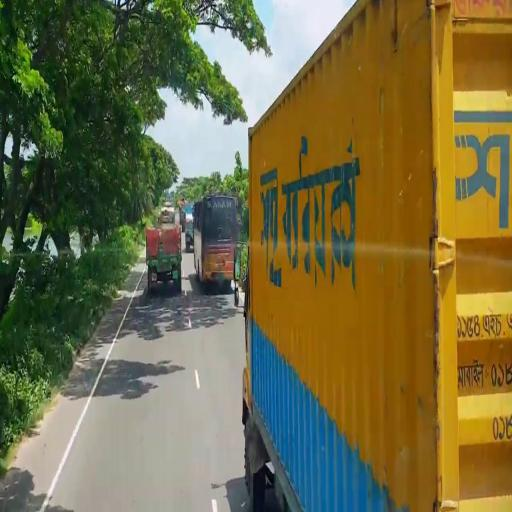bus: (193, 194, 240, 297)
pickup: (231, 1, 512, 507)
truck: (145, 216, 184, 301)
